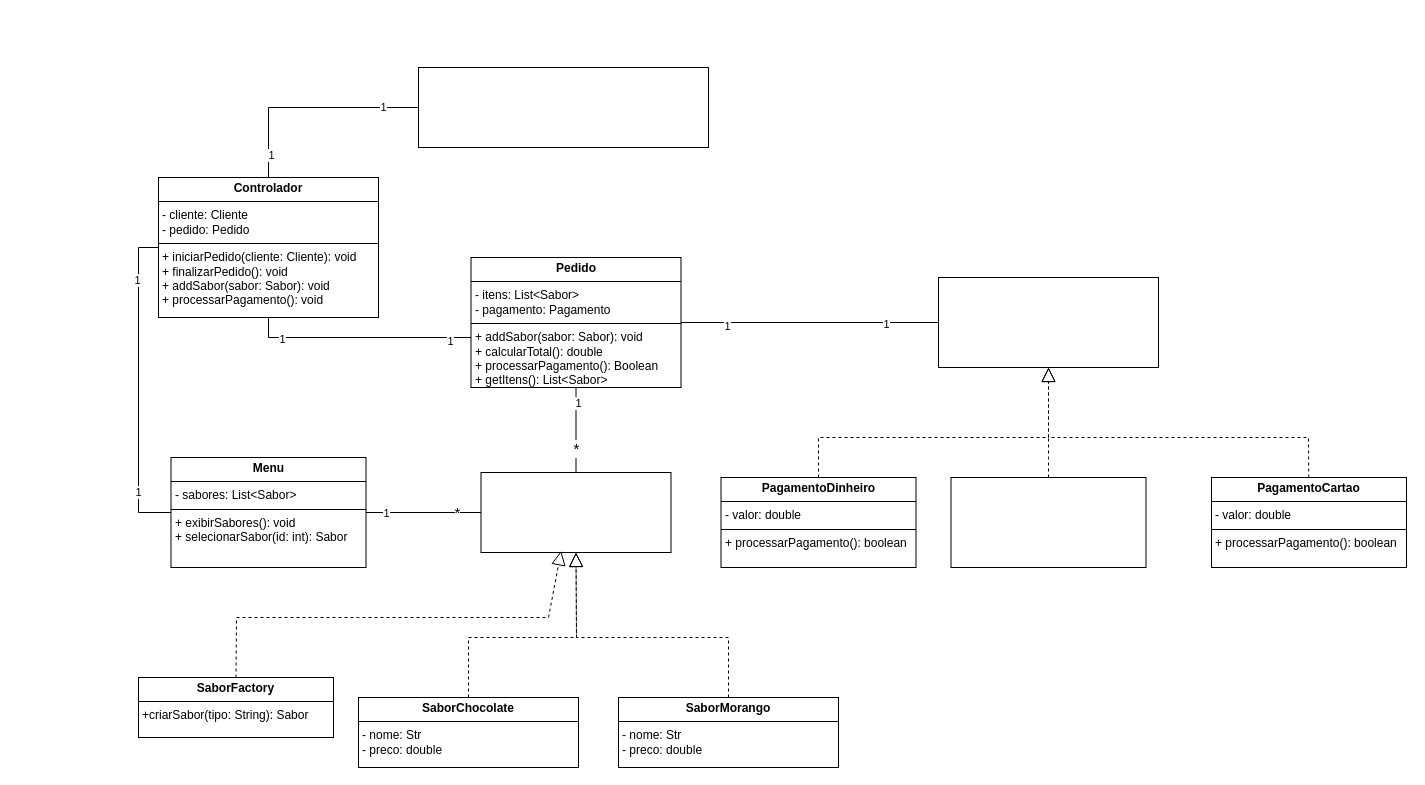
This 1425x785 diagram has some shape labels left out. Each missing label, with the box of its shape:
<<Interface>> Pagamento + processarPagamento(): Boolean: (938, 276, 1158, 368)
<<Interface>> Sabor + getNome(): Str + getPreco(): double: (480, 472, 671, 552)
Cliente - nome: Str - cpf: Str: (418, 66, 708, 148)
PagamentoPix - valor: double + processarPagamento(): boolean: (950, 476, 1146, 568)
